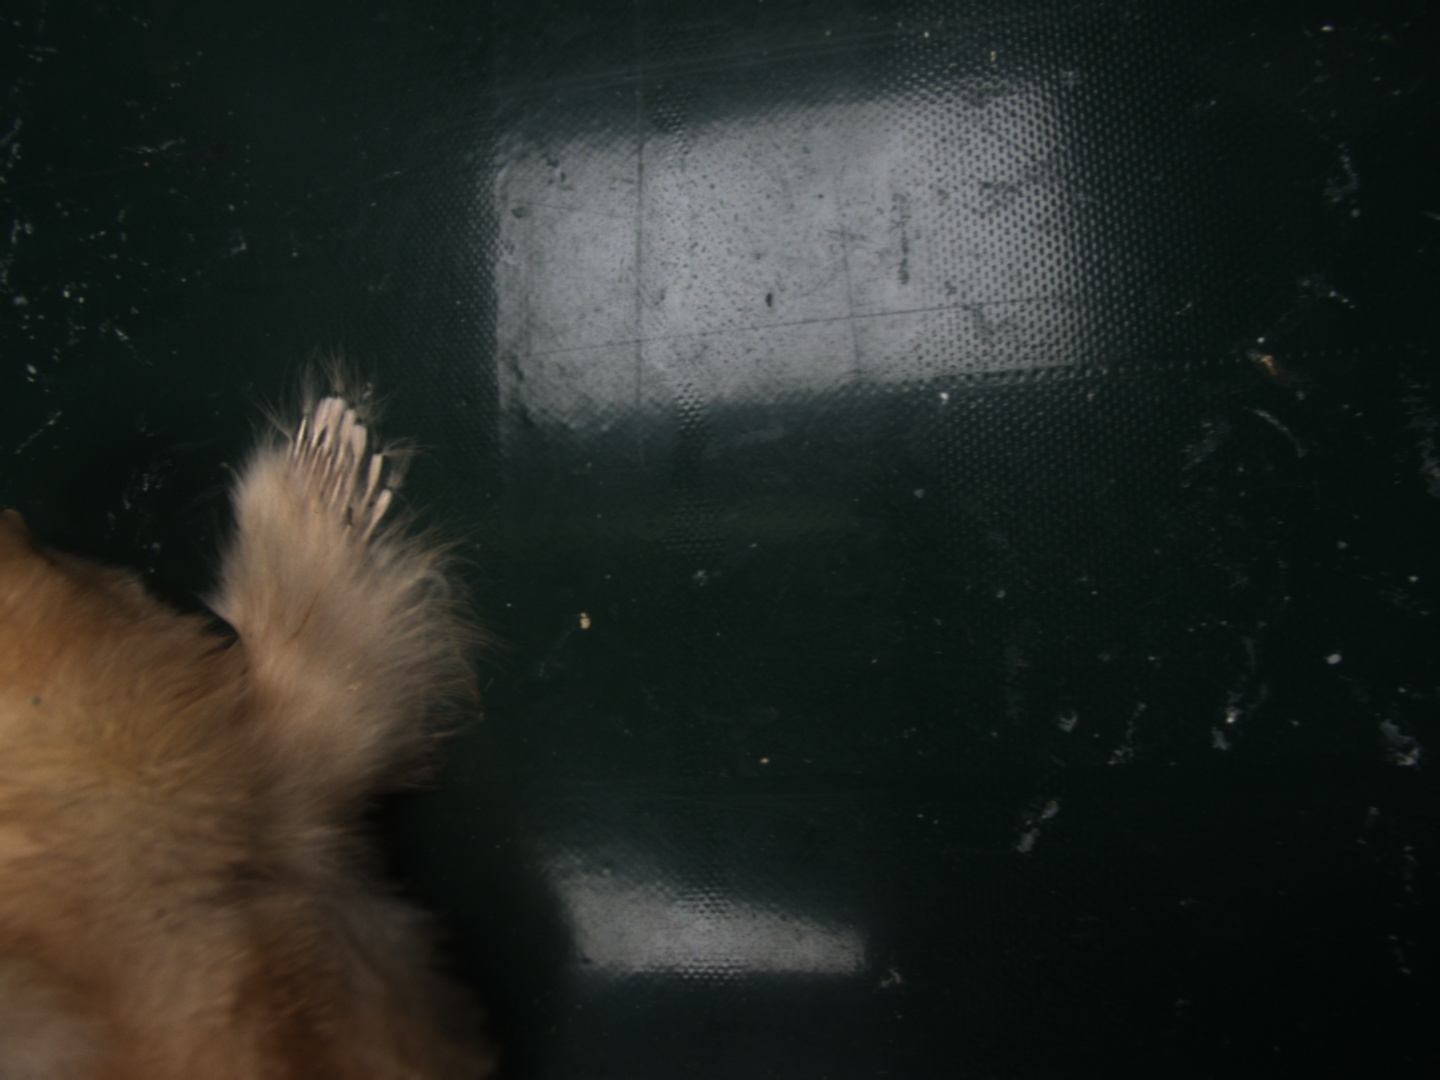female: (276, 395, 398, 562)
